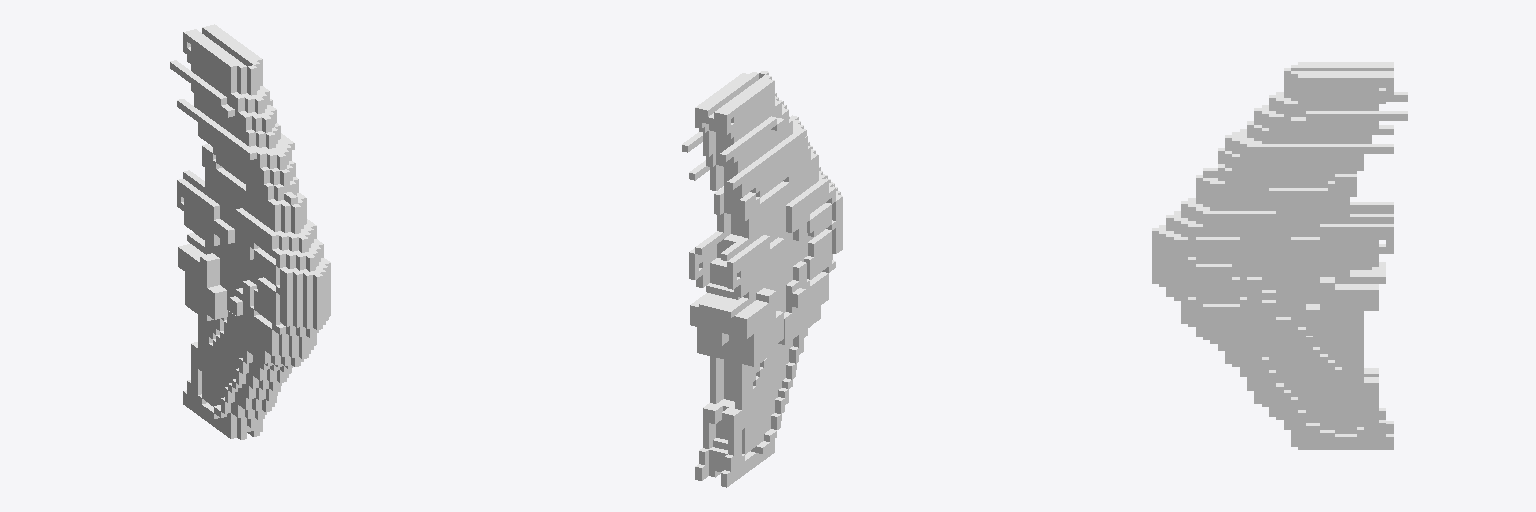
The model's file is Extra-3-MeteorSlicer_Body.obj.
3 renders of one model, left to right at view 1: azimuth 30°, elevation 25°; view 2: azimuth 150°, elevation 25°; view 3: azimuth 270°, elevation 25°, orthographic.
Parts seen in each view (by area): view 1: MeteorSlicer_Body; view 2: MeteorSlicer_Body; view 3: MeteorSlicer_Body.
Part boxes in pixels (x1,y1,x2,y2): MeteorSlicer_Body: (170, 24, 330, 439); MeteorSlicer_Body: (682, 71, 842, 487); MeteorSlicer_Body: (1152, 62, 1407, 449).
Bounding box in the file's own units: 0.9 × 5.6 × 3.5.